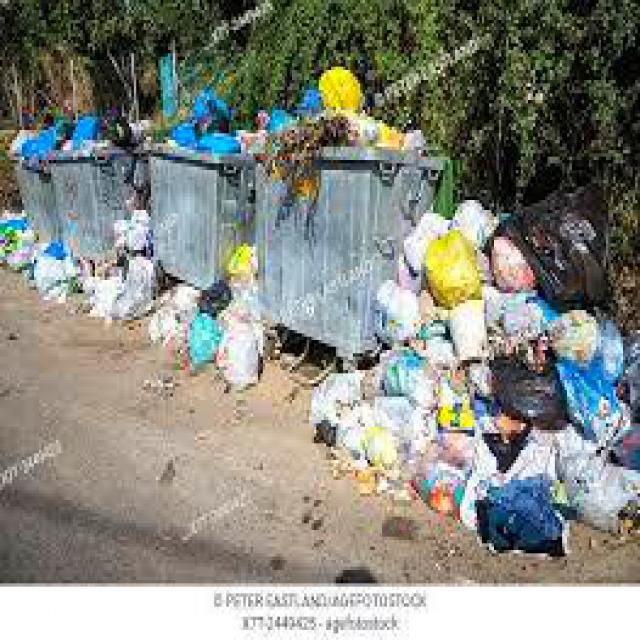garbage: (399, 217, 625, 530), (17, 117, 423, 163), (163, 277, 263, 390), (326, 353, 409, 467), (20, 243, 124, 310), (326, 73, 389, 137), (112, 223, 158, 307), (0, 217, 46, 260)
